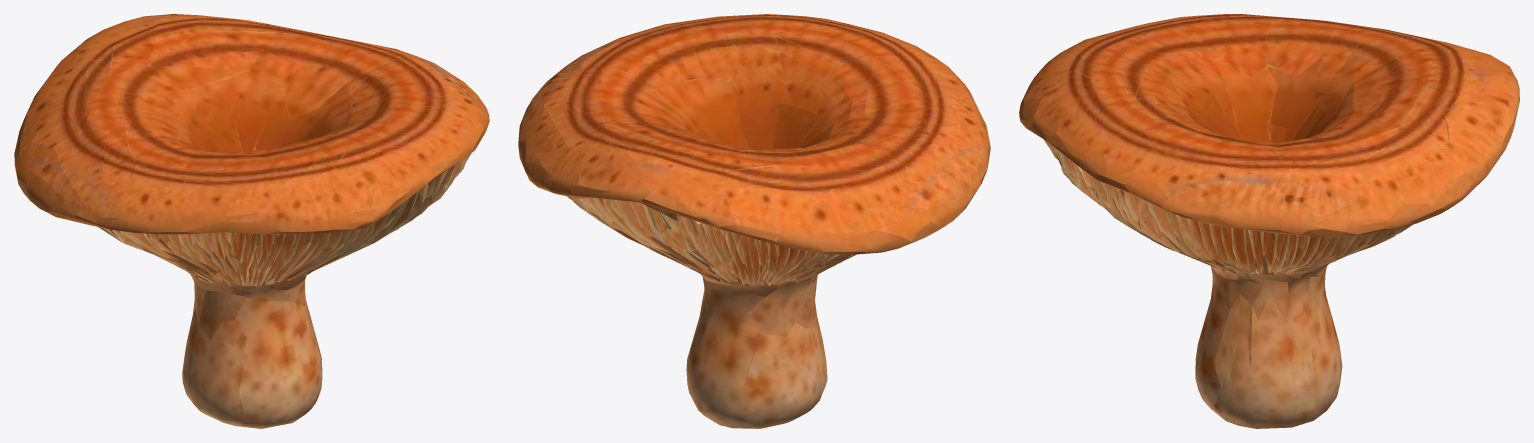
The model's file is kanlica.glb.
3 views of the same model, side by side, from view 1: azimuth 30°, elevation 25°; view 2: azimuth 150°, elevation 25°; view 3: azimuth 270°, elevation 25° (orthographic). The views are drawn at different scales.
Visible parts, largest first — view 1: output_unwrapped; view 2: output_unwrapped; view 3: output_unwrapped.
Boxes of the visible parts, <box> form: output_unwrapped: <box>14,14,489,428</box>; output_unwrapped: <box>518,14,990,428</box>; output_unwrapped: <box>1019,14,1519,428</box>.
Size of the model in its own units: 1.9 by 1.39 by 1.9.
1 material, 1 textured.
